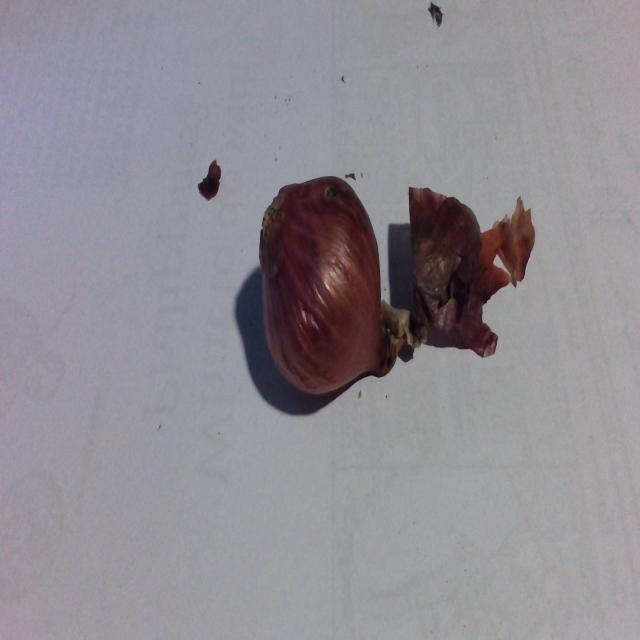onion: (249, 156, 417, 423)
